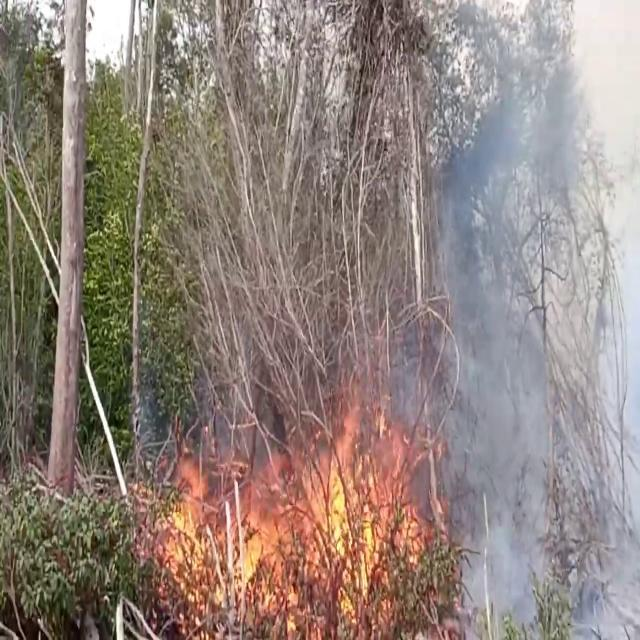Fire: (154, 392, 430, 628)
Smoke: (408, 1, 640, 633)
